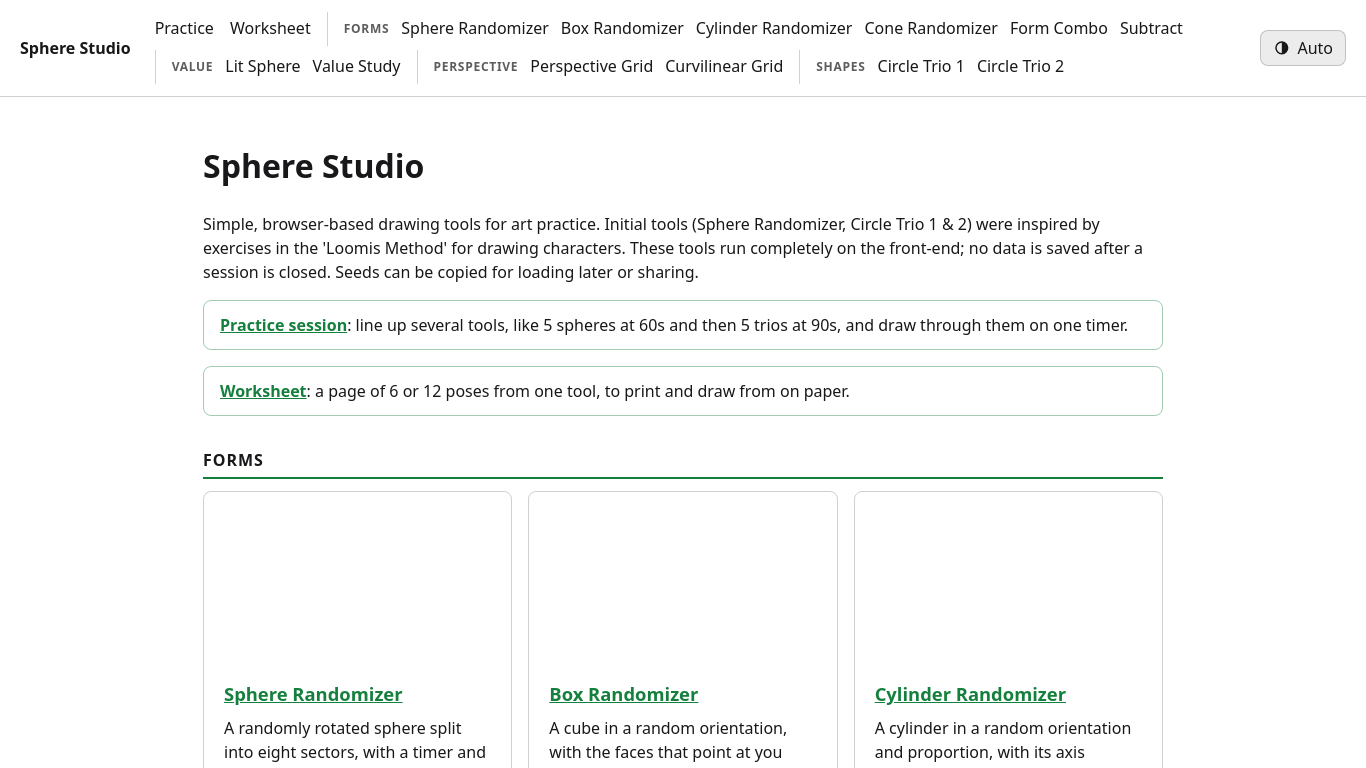
Test: finding it › has a Worksheet link in the header and on the home page
This screenshot has width=1366, height=768.
Click the link to "/worksheet".
click(270, 29)  # box 230,12 -> 311,46
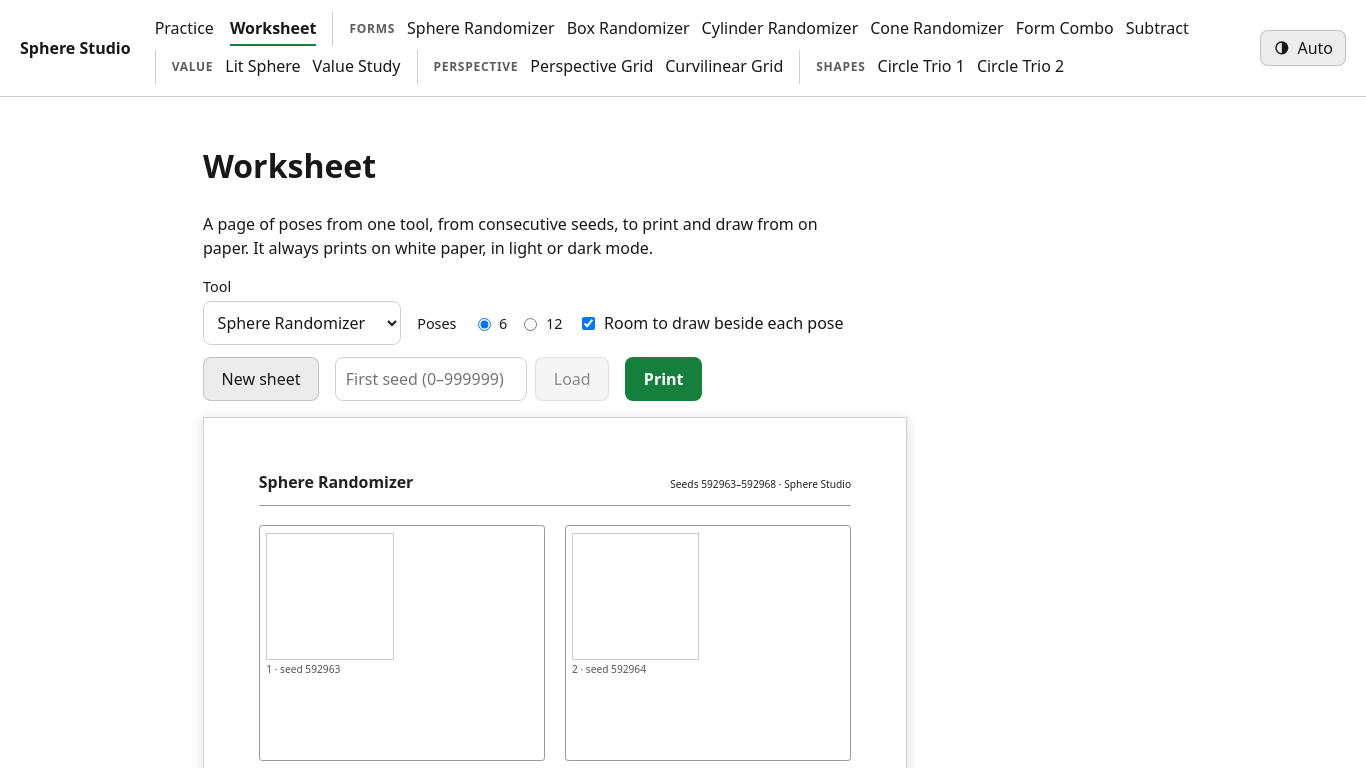
Check: the heading "Worksheet" is shown, box 203,144 -> 376,187
